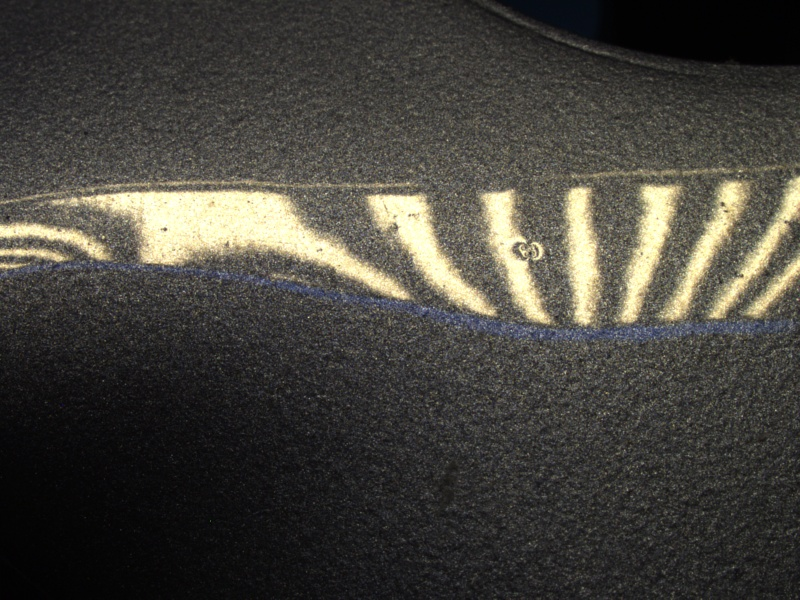bad: (506, 234, 549, 265)
